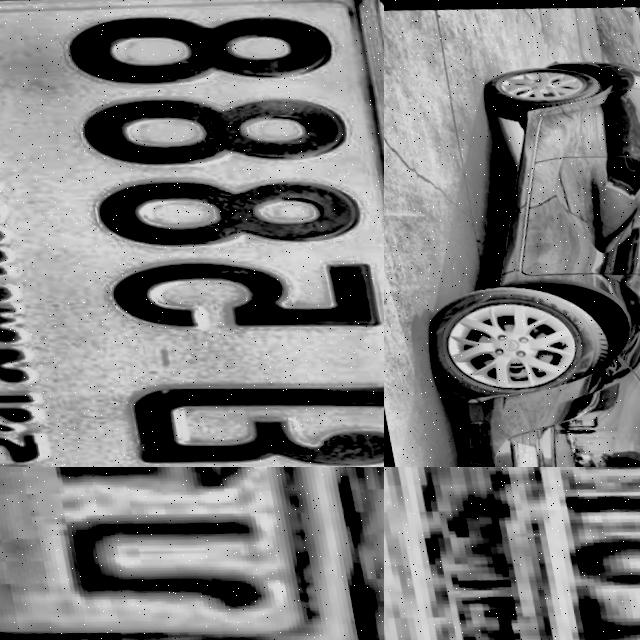license-plate: (0, 0, 384, 467), (0, 467, 375, 640), (384, 467, 640, 640)
